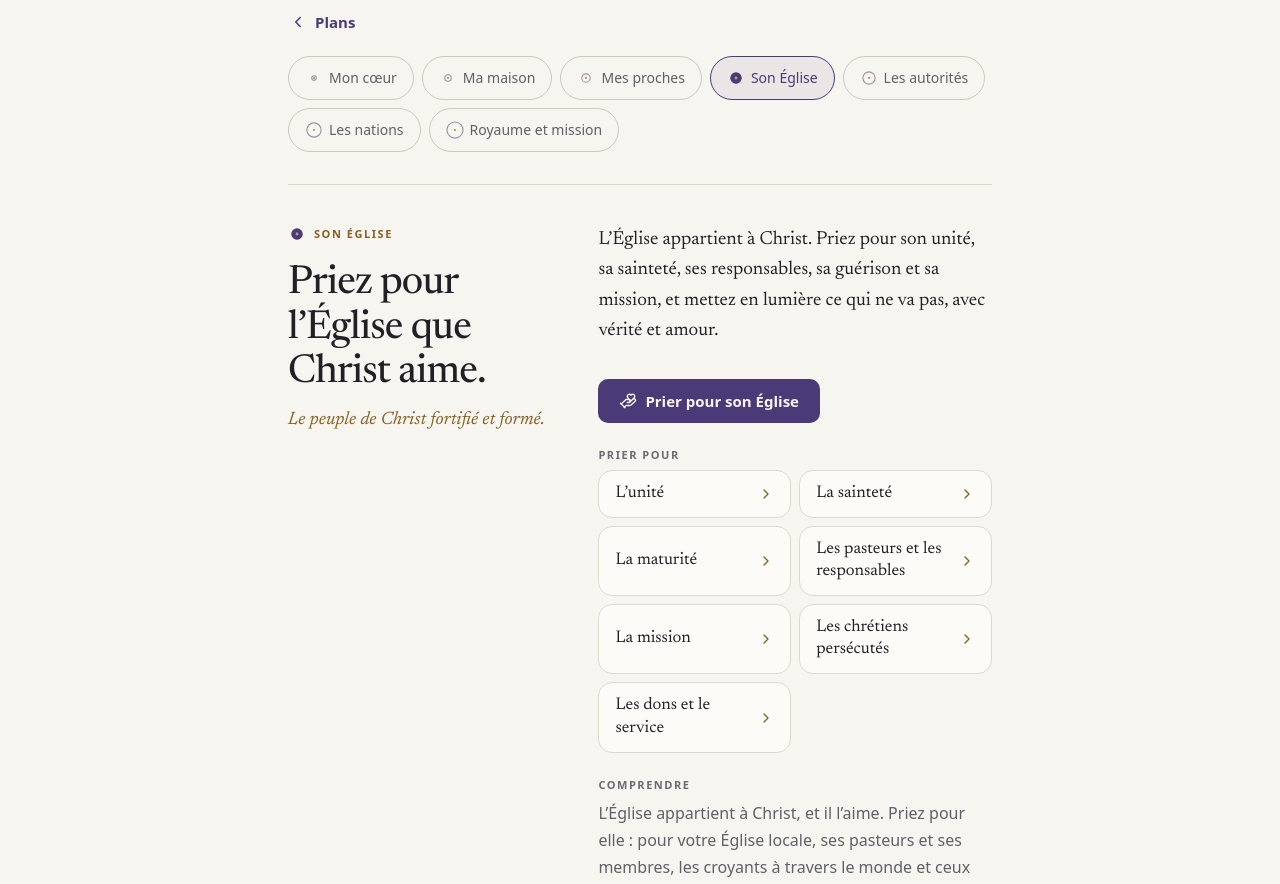
Test: CirclePage › lays the circle out on one page: theme cards, then what it means, reflection and Scripture — no folds
The image size is (1280, 884).
Expected: the heading "Prier pour" is shown, x1=598 y1=447 x2=680 y2=462
Expected: the heading "Comprendre" is shown, x1=598 y1=777 x2=691 y2=792
Step 1. Click the button "L’unité" → (695, 494), box x1=598 y1=470 x2=791 y2=518
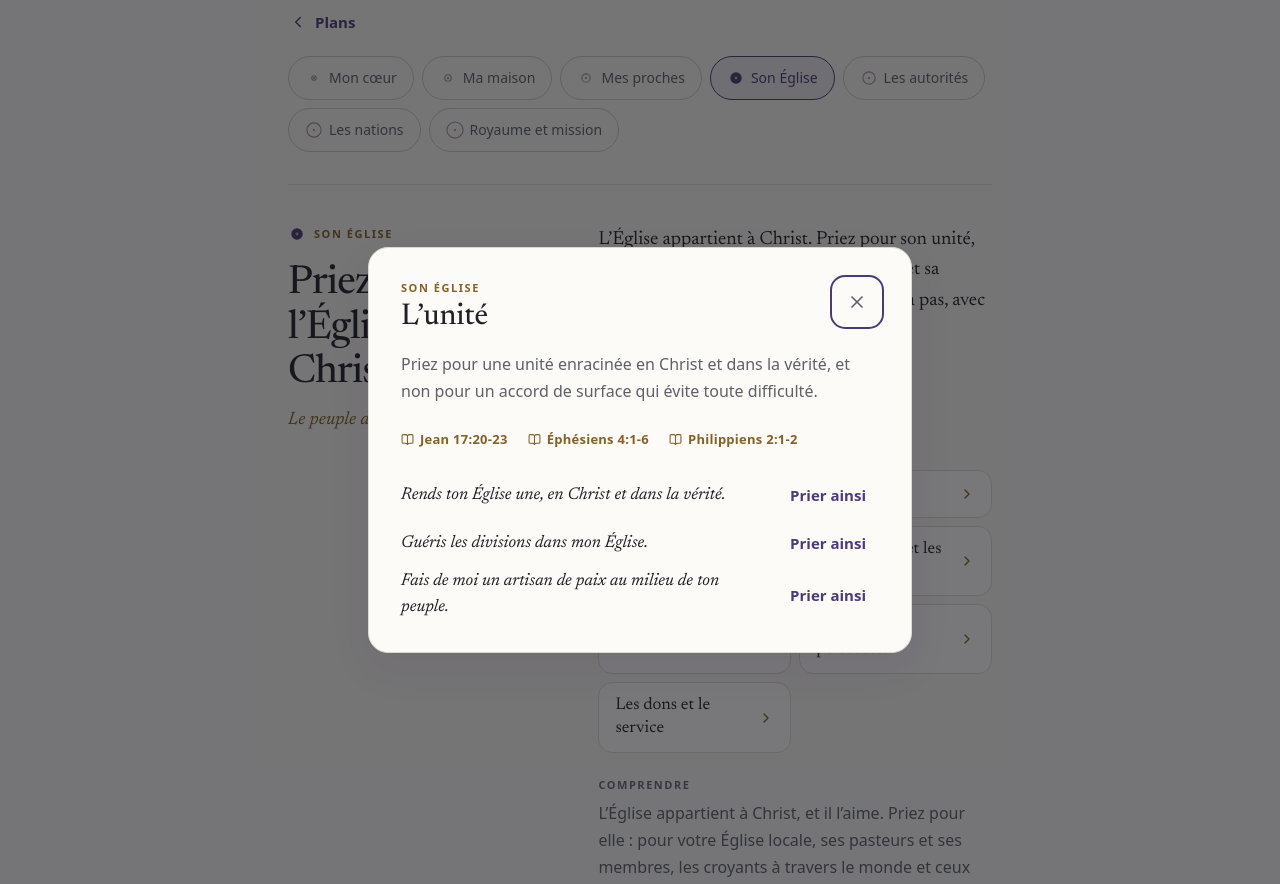
Now the button named "Fermer" is shown, box x1=835 y1=280 x2=879 y2=324
Step 2. Click the 1st button "Prier ainsi" → (828, 495), box x1=777 y1=473 x2=879 y2=517
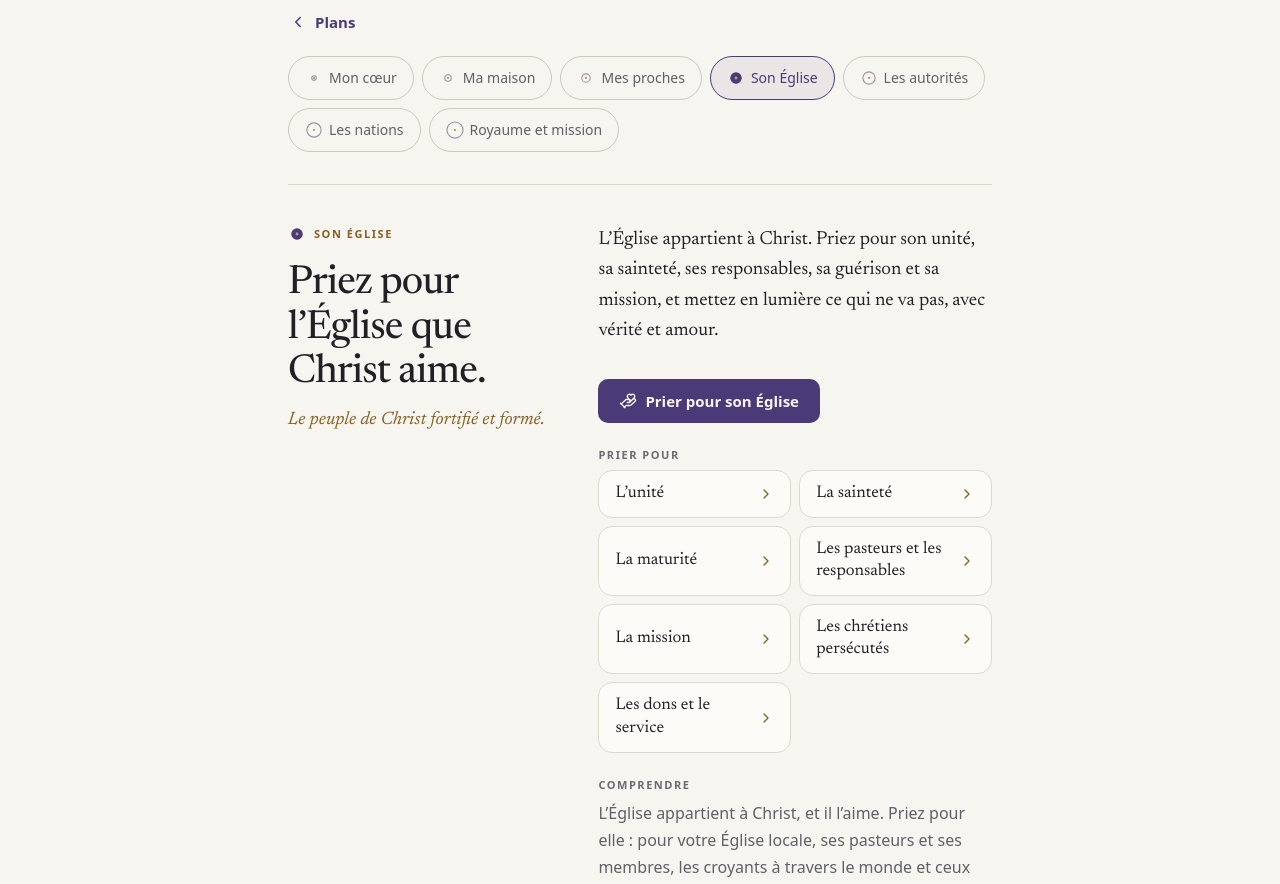
Expected: the text "L’unité" is shown, x1=615 y1=483 x2=664 y2=505
Now the dialog is gone
